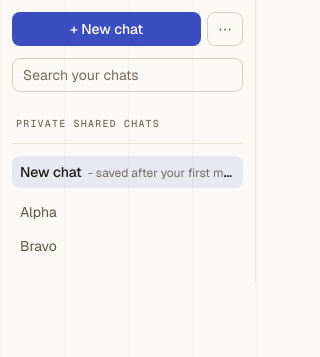
Test case: deleting several chats at once › keeps only the undeleted chats selected when one request fails
Expected: the button "Alpha" is shown, x1=12 y1=196 x2=243 y2=228
Click the button named "Chat list options" at x=225, y=29, box x1=207 y1=12 x2=243 y2=46
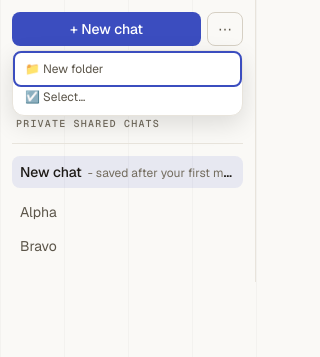
Click the button "☑️ Select…" at x=128, y=97, box x1=17 y1=83 x2=238 y2=111
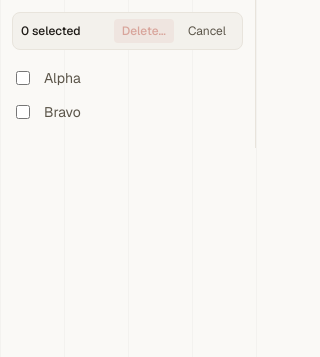
Click the checkbox named "Select Alpha" at x=23, y=78, box x1=16 y1=71 x2=30 y2=85
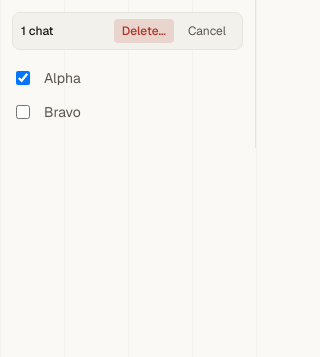
Click the checkbox named "Select Bravo" at x=23, y=112, box x1=16 y1=105 x2=30 y2=119
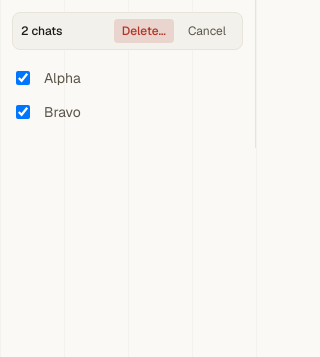
Click the button "Delete…" at x=144, y=31, box x1=114 y1=19 x2=174 y2=43
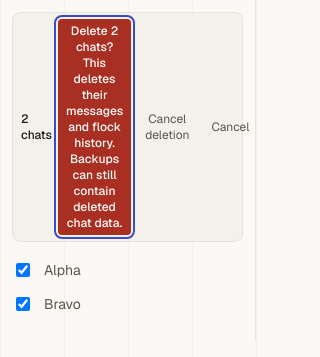
Click the 1st button at x=95, y=127, box x1=58 y1=19 x2=131 y2=235
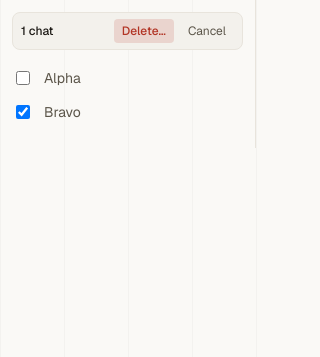
Expected: the text "1 chat" is shown, x1=21 y1=23 x2=54 y2=39
